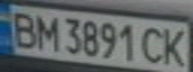1: (115, 20, 139, 62)
3: (60, 15, 84, 55)
8: (78, 17, 100, 57)
9: (96, 19, 121, 60)
B: (6, 8, 39, 48)
C: (139, 24, 169, 65)
K: (160, 25, 193, 69)
M: (30, 11, 60, 52)
